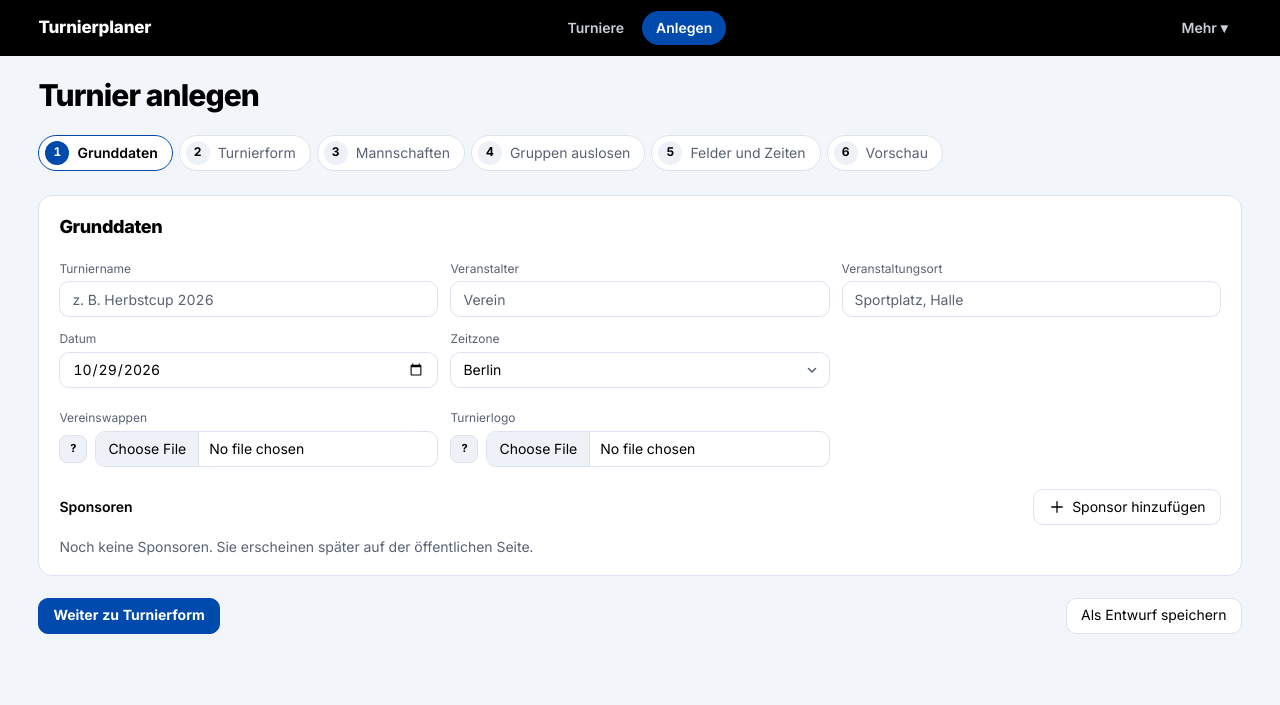
Assistent mit Baukasten › lässt bei einem K.-o.-Baum, der nicht aufgeht, nicht weiter
Type "Baukasten-Cup" into the field labelled "Turniername".
click(249, 300); type("Baukasten-Cup")  # box [59,282,438,318]
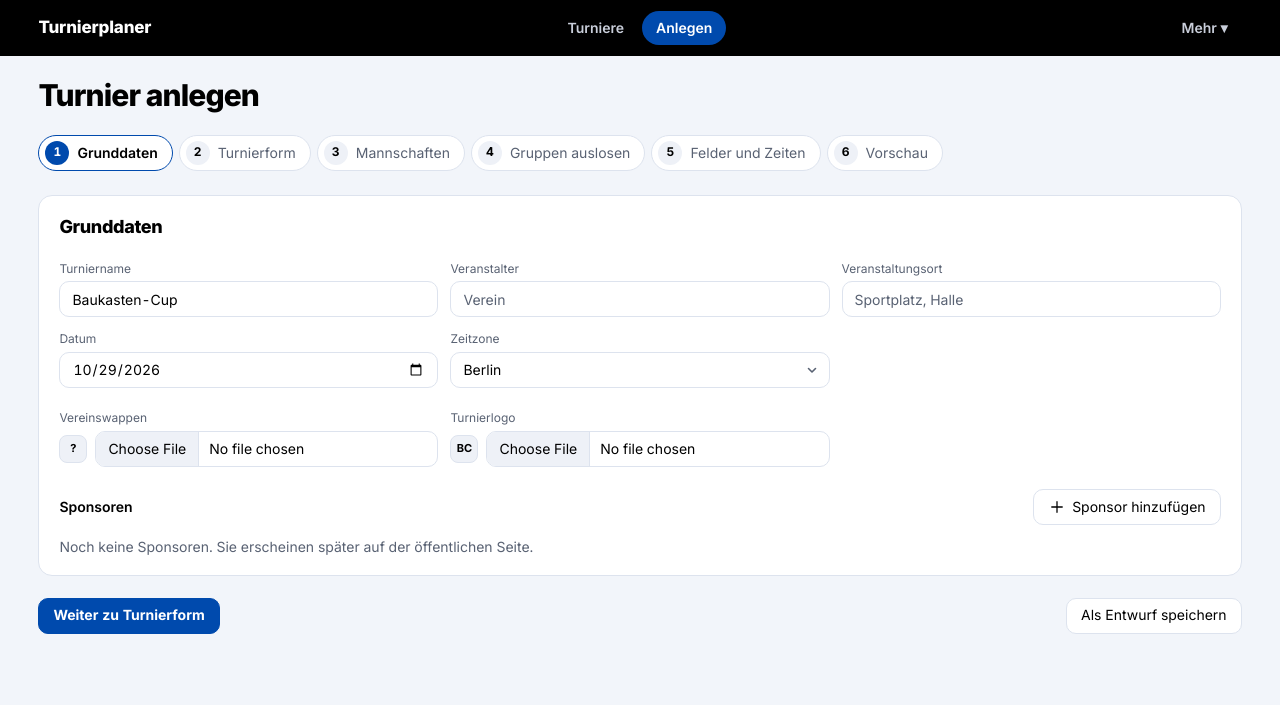
Type "SV Test" into the field labelled "Veranstalter".
click(640, 300); type("SV Test")  # box [450,282,830,318]
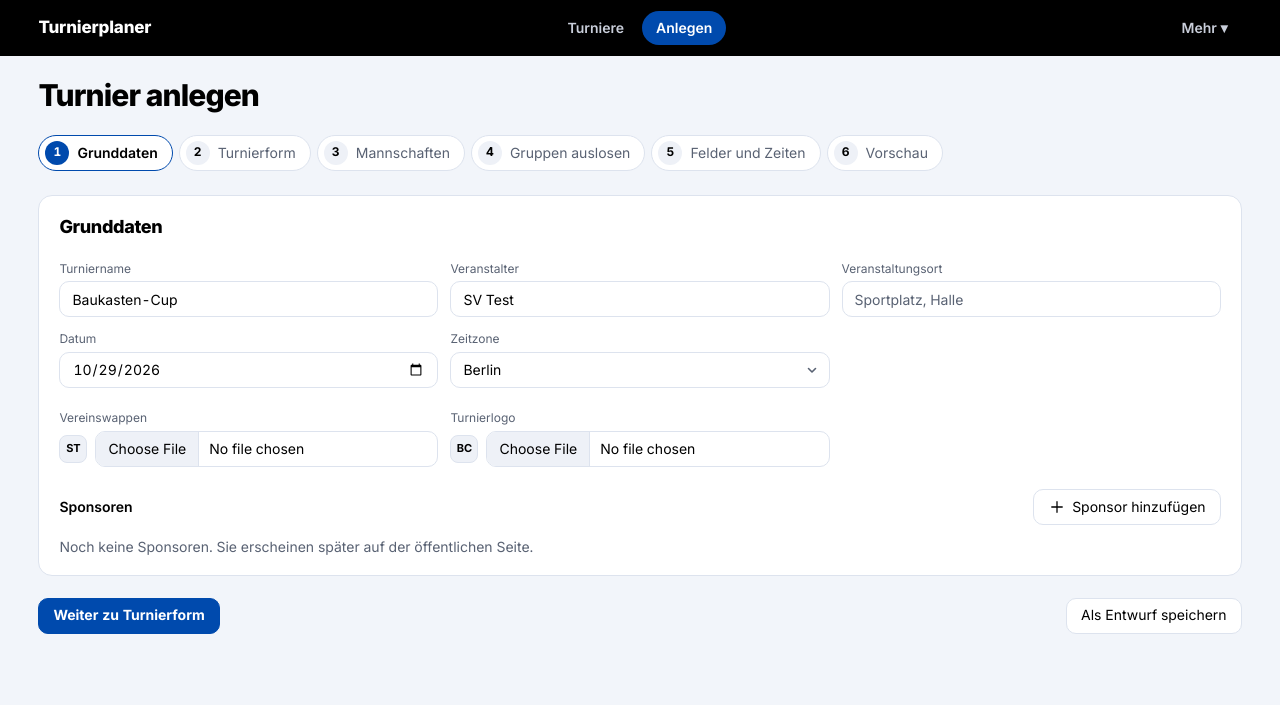
Click the button "Weiter zu Turnierform".
click(129, 616)  # box [38,598,220,634]
(page scrolled)
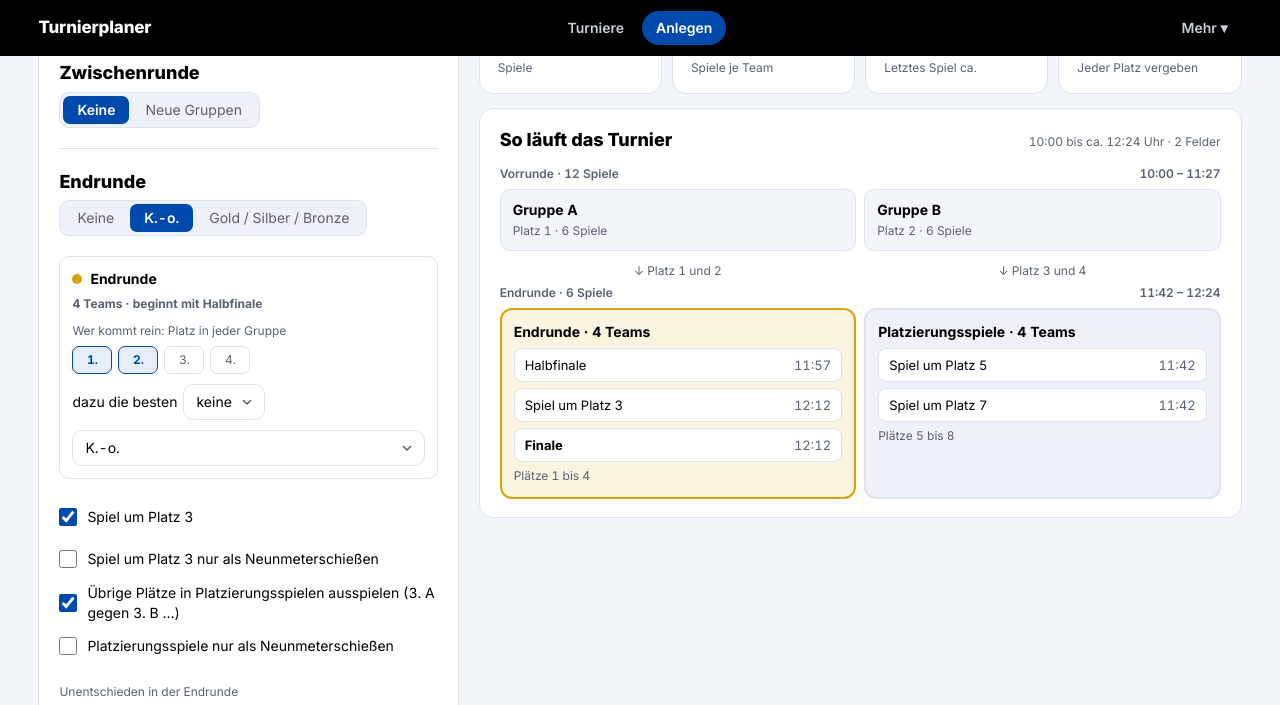
Click the button named "Platz 3".
click(184, 360)  # box [164,346,204,374]
(page scrolled)
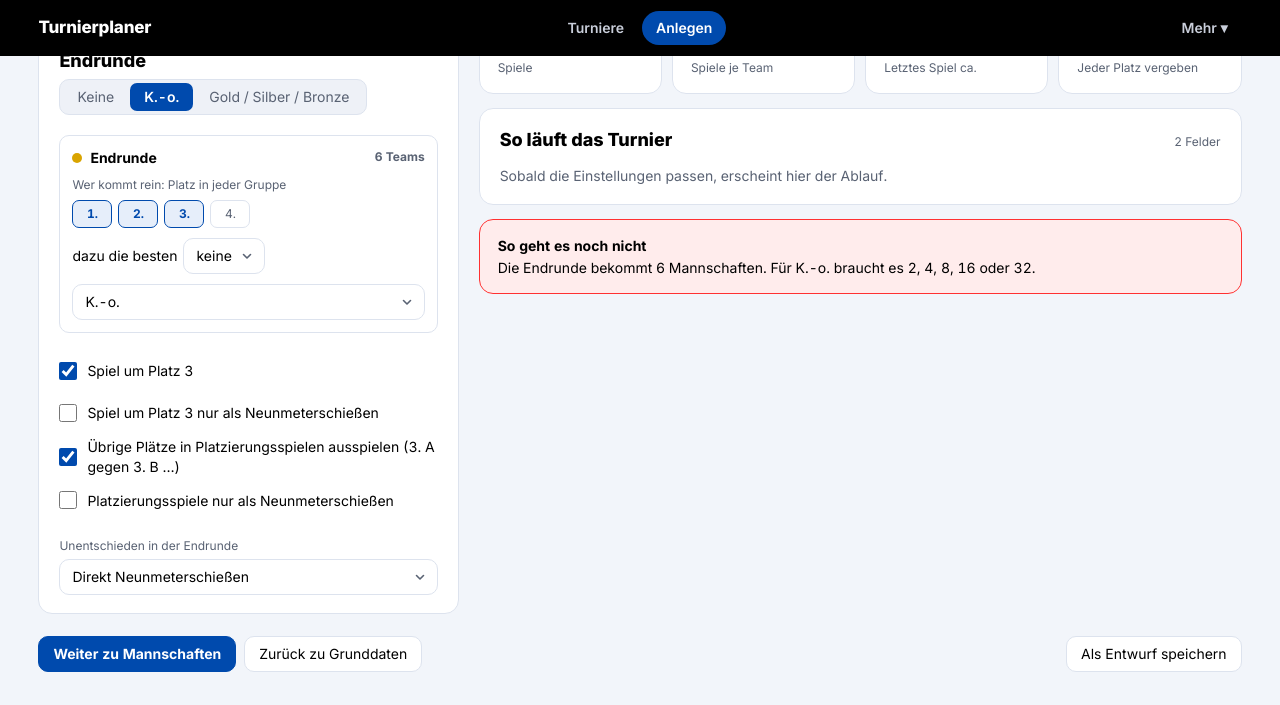
Click the button "Weiter zu Mannschaften".
click(137, 654)  # box [38,636,236,672]
(page scrolled)
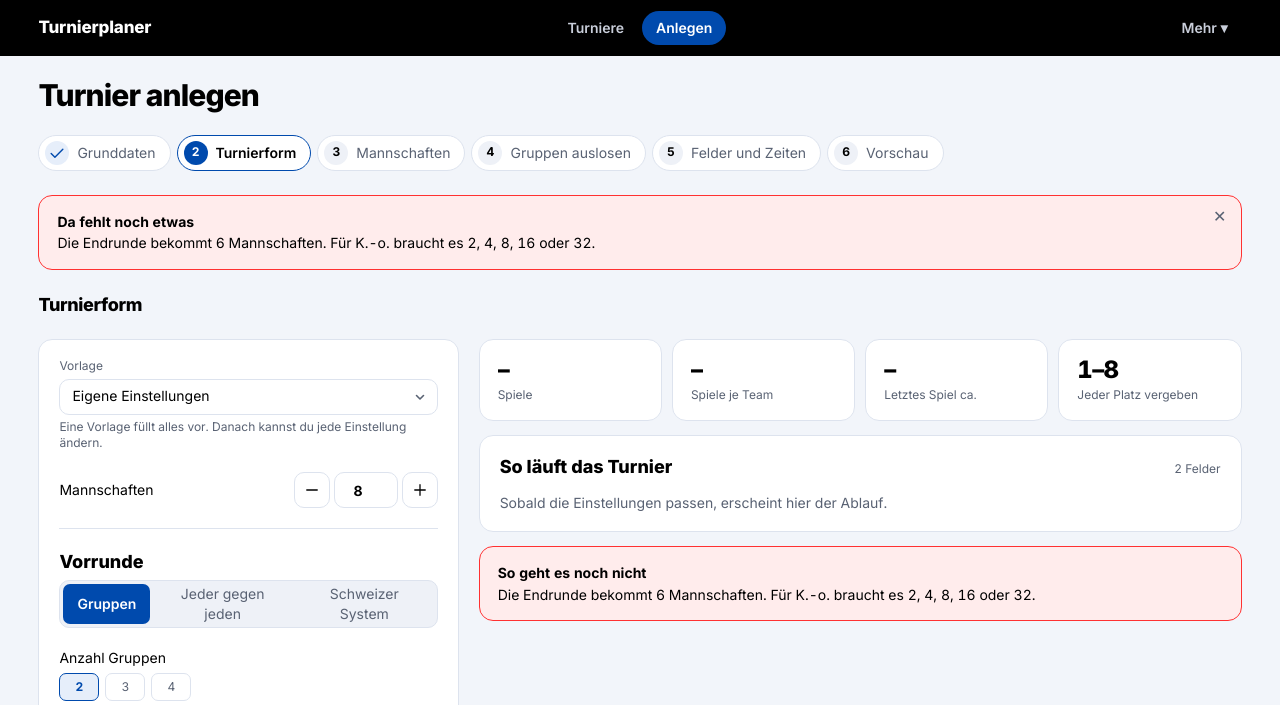
Expected: the heading "Turnierform" is shown, [38,294,142,315]
Expected: the text "Für K.-o. braucht es 2, 4, 8, 16 oder 32" below "Da fehlt noch etwas" is shown, [57,234,595,251]
